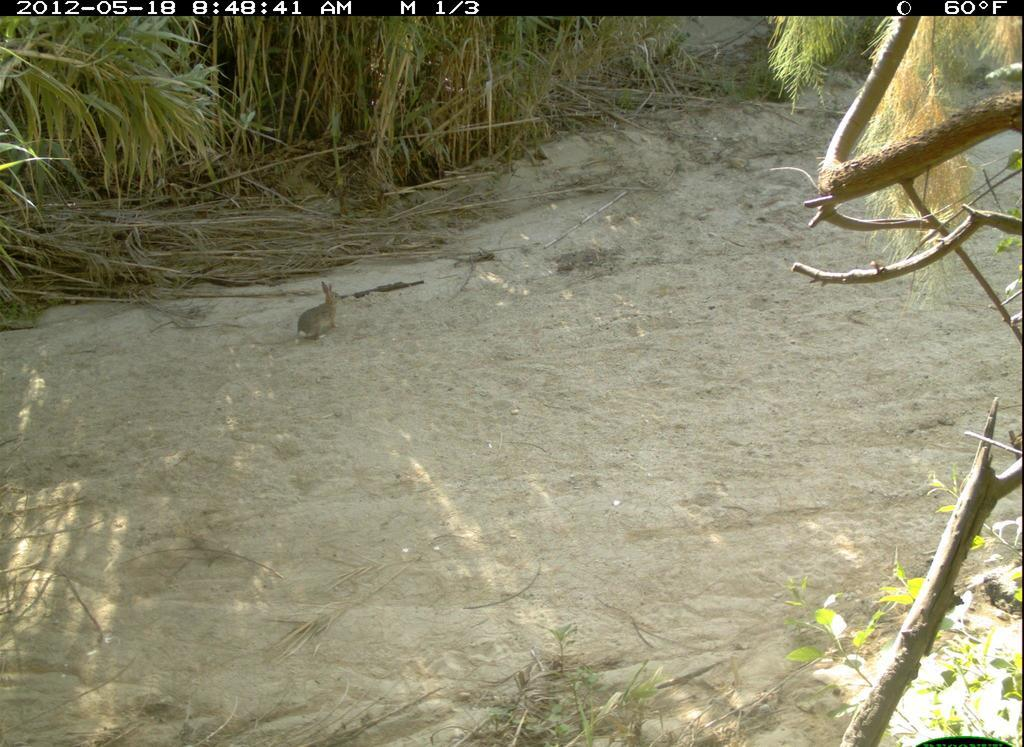rabbit: (292, 277, 348, 349)
